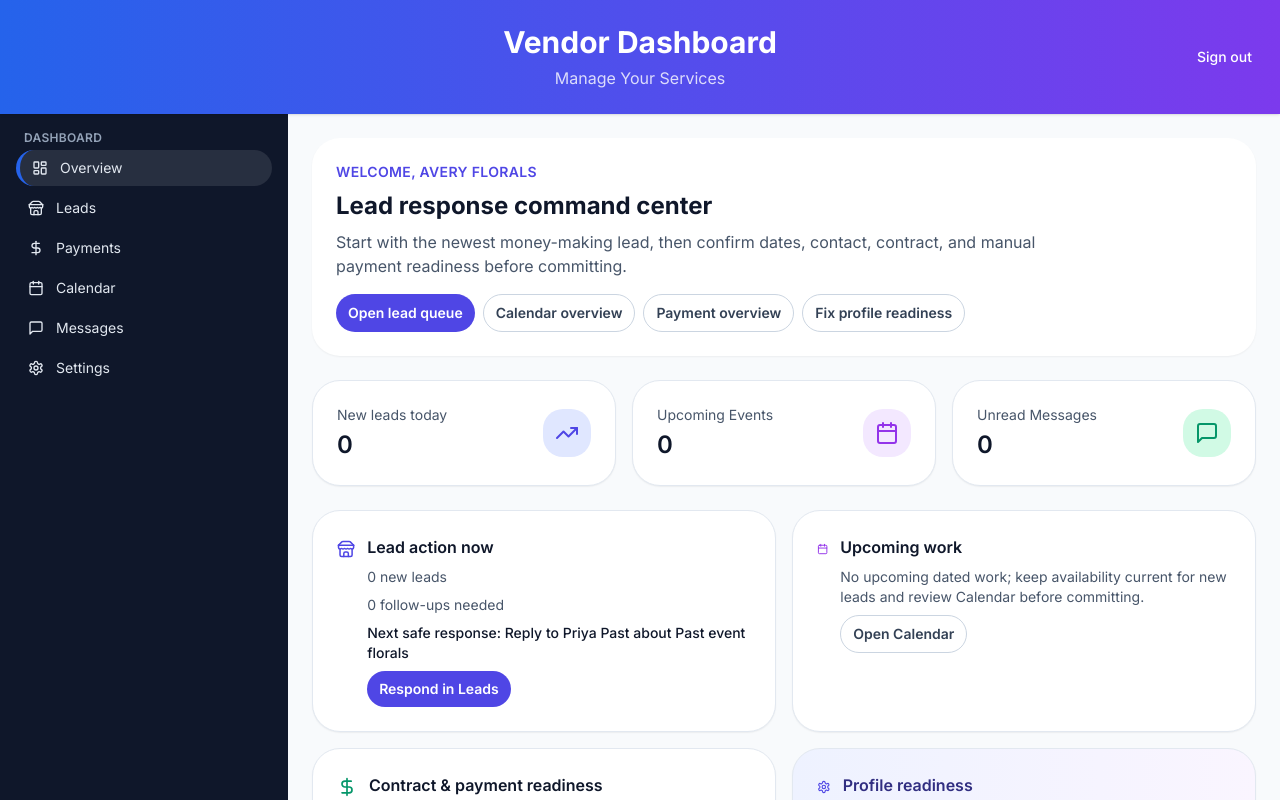
VendorDashboard lead response workflow › shows an empty upcoming-work state instead of a stale past active date
Expected: the text "No upcoming dated work; keep availability current for new leads" is shown, [840,568,1227,604]
Click the button "Open Calendar": (904, 634) [840,614,967,652]
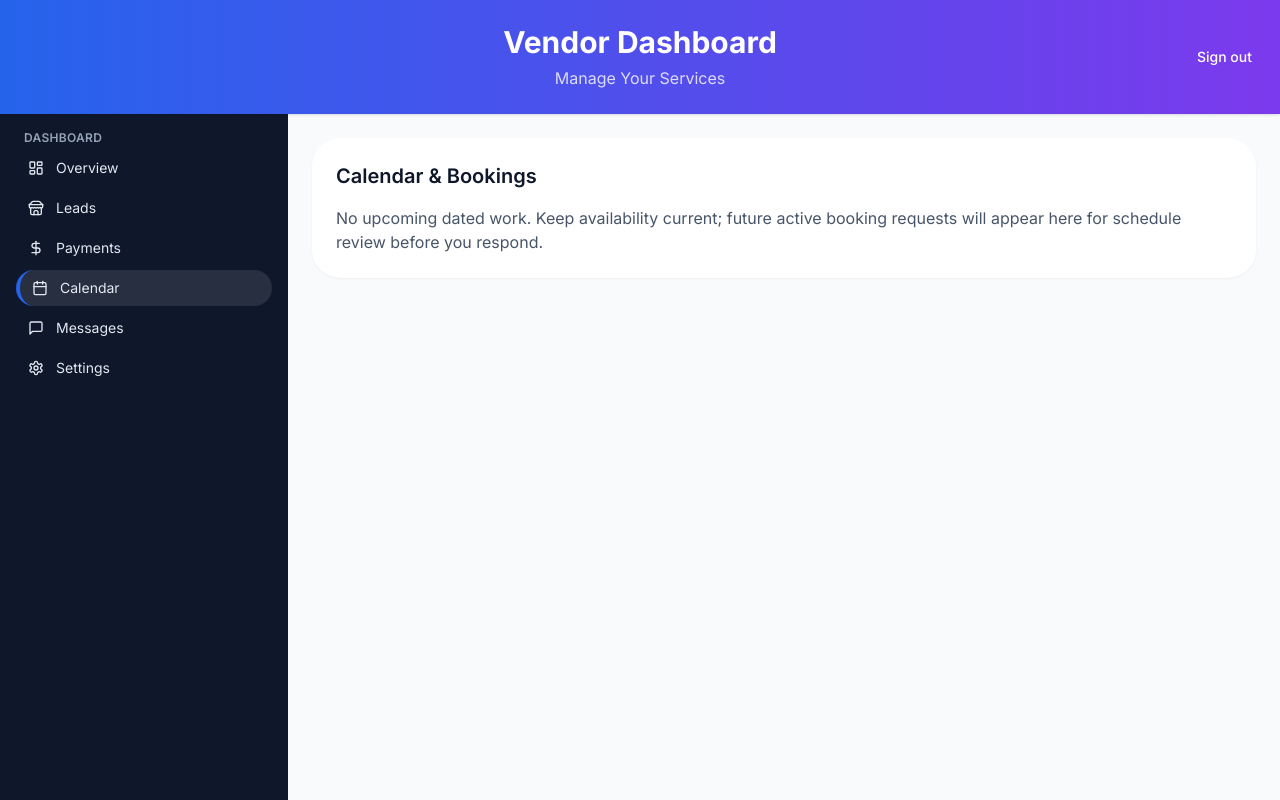
Expected: the heading "Calendar & Bookings" is shown, [336,164,537,188]
Expected: the text "No upcoming dated work. Keep availability current" is shown, [336,208,1181,252]
